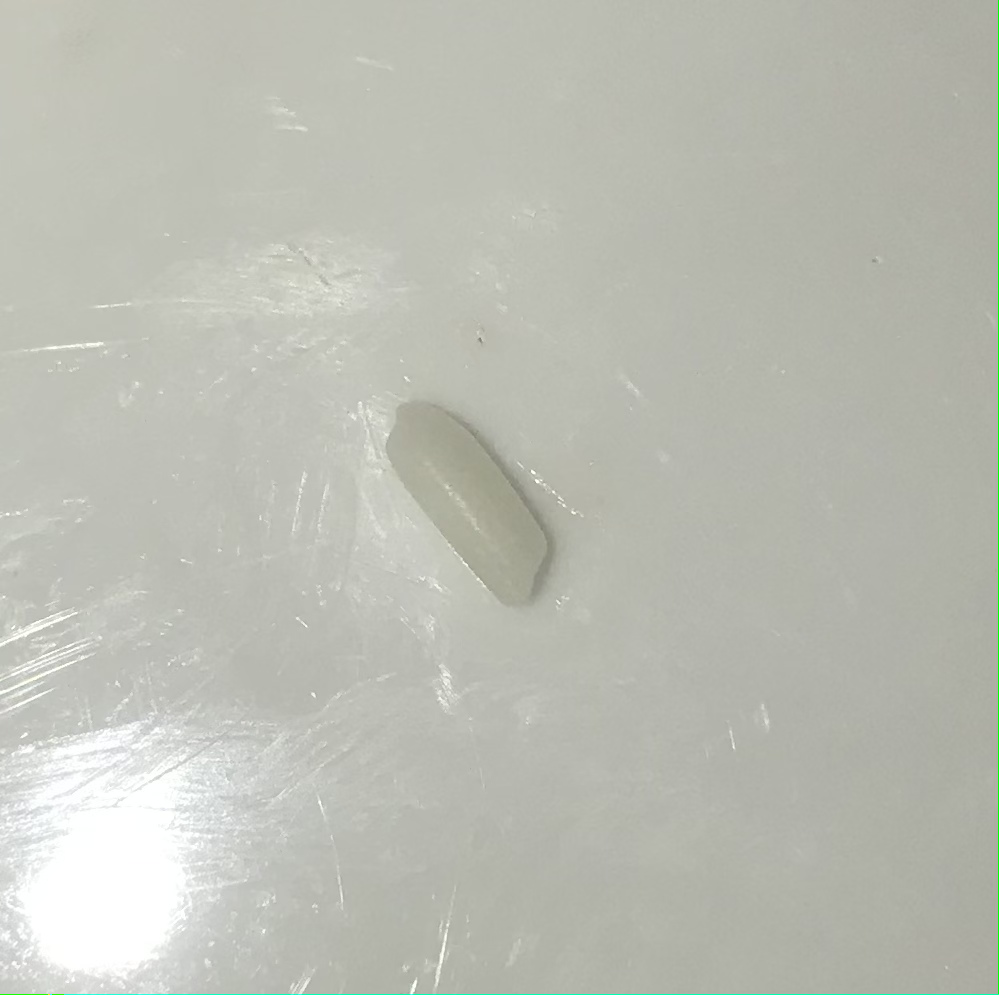Gao Lai Sua: (369, 385, 554, 619)
